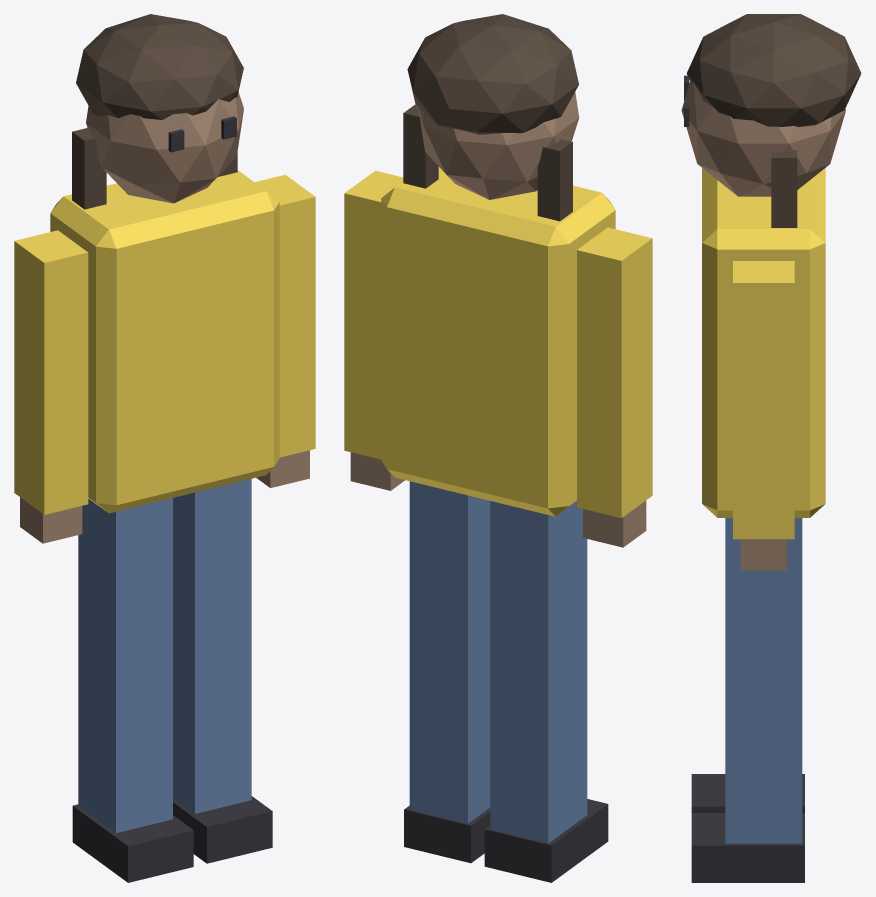
Rendered from sm_customer_braids_girl.glb.
The picture shows the model from 3 angles, left to right: view 1: azimuth 30°, elevation 25°; view 2: azimuth 150°, elevation 25°; view 3: azimuth 270°, elevation 25°; orthographic projection. The views are drawn at different scales.
Parts seen in each view (by area): view 1: braids_girl_body, braids_girl_leg, braids_girl_leg.001, braids_girl_arm, braids_girl_hair, braids_girl_head, braids_girl_arm.001, braids_girl_shoe, braids_girl_shoe.001, braids_girl_braid, braids_girl_hand, braids_girl_hand.001; view 2: braids_girl_body, braids_girl_leg, braids_girl_leg.001, braids_girl_arm, braids_girl_hair, braids_girl_arm.001, braids_girl_head, braids_girl_shoe, braids_girl_shoe.001, braids_girl_braid, braids_girl_braid.001, braids_girl_hand (+1 smaller); view 3: braids_girl_body, braids_girl_leg.001, braids_girl_arm.001, braids_girl_hair, braids_girl_head, braids_girl_shoe.001, braids_girl_braid.001, braids_girl_hand.001, braids_girl_shoe.
Part boxes in pixels (<box>): braids_girl_body: <box>50,170,279,513</box>; braids_girl_leg: <box>78,498,172,833</box>; braids_girl_leg.001: <box>173,479,251,813</box>; braids_girl_arm: <box>14,230,88,514</box>; braids_girl_hair: <box>76,14,243,119</box>; braids_girl_head: <box>86,92,243,203</box>; braids_girl_arm.001: <box>255,174,315,457</box>; braids_girl_shoe: <box>72,804,193,882</box>; braids_girl_shoe.001: <box>173,796,272,863</box>; braids_girl_braid: <box>72,128,106,209</box>; braids_girl_hand: <box>20,497,82,543</box>; braids_girl_hand.001: <box>256,450,309,487</box>; braids_girl_body: <box>381,167,615,516</box>; braids_girl_leg: <box>490,501,587,843</box>; braids_girl_leg.001: <box>409,481,490,823</box>; braids_girl_arm: <box>577,227,652,518</box>; braids_girl_hair: <box>407,14,578,134</box>; braids_girl_arm.001: <box>344,170,403,459</box>; braids_girl_head: <box>418,92,579,199</box>; braids_girl_shoe: <box>484,799,608,882</box>; braids_girl_shoe.001: <box>404,805,490,863</box>; braids_girl_braid: <box>537,139,572,221</box>; braids_girl_braid.001: <box>403,104,438,188</box>; braids_girl_hand: <box>583,500,646,547</box>; braids_girl_body: <box>702,168,825,517</box>; braids_girl_leg.001: <box>725,518,802,843</box>; braids_girl_arm.001: <box>733,261,794,539</box>; braids_girl_hair: <box>686,14,861,126</box>; braids_girl_head: <box>681,81,845,196</box>; braids_girl_shoe.001: <box>691,813,804,882</box>; braids_girl_braid.001: <box>771,150,797,227</box>; braids_girl_hand.001: <box>740,539,786,570</box>; braids_girl_shoe: <box>691,774,804,812</box>.
Size of what is drawn, in the model's own units: 0.589 by 1.68 by 0.3325.
